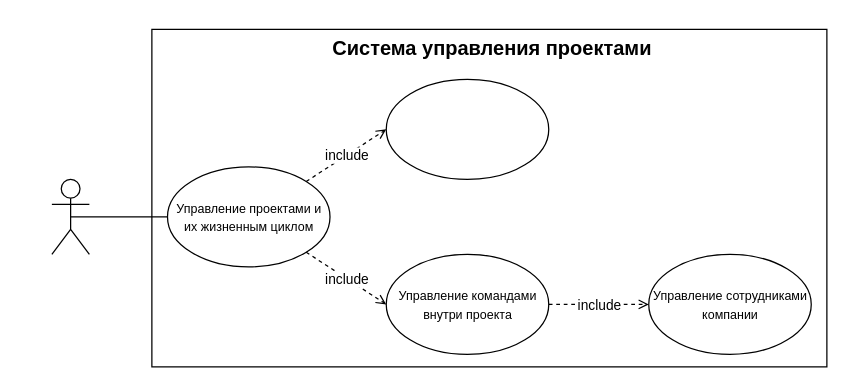
This 849x389 diagram has some shape labels left out. The box of each missing label's shape, as (x1, y1, x2, y2) in pixels:
Пользователь: (51, 178, 89, 254)
Управление задачами внутри проекта и их жизненным циклом: (385, 78, 549, 179)
